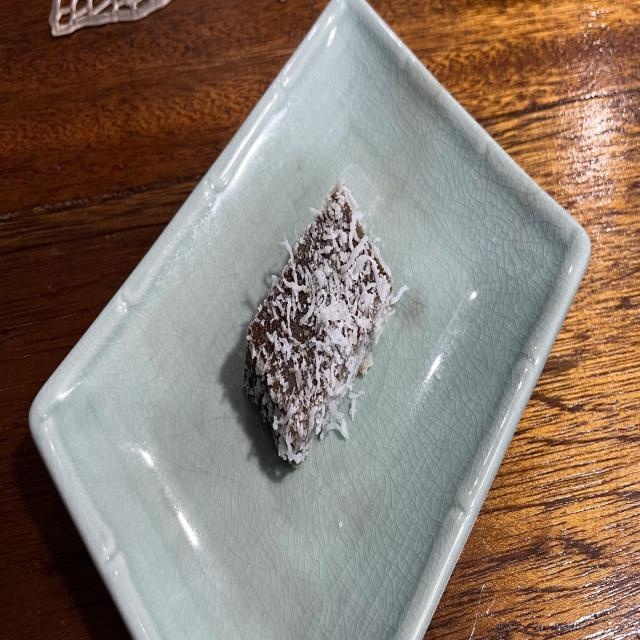kaswi: (244, 180, 406, 464)
